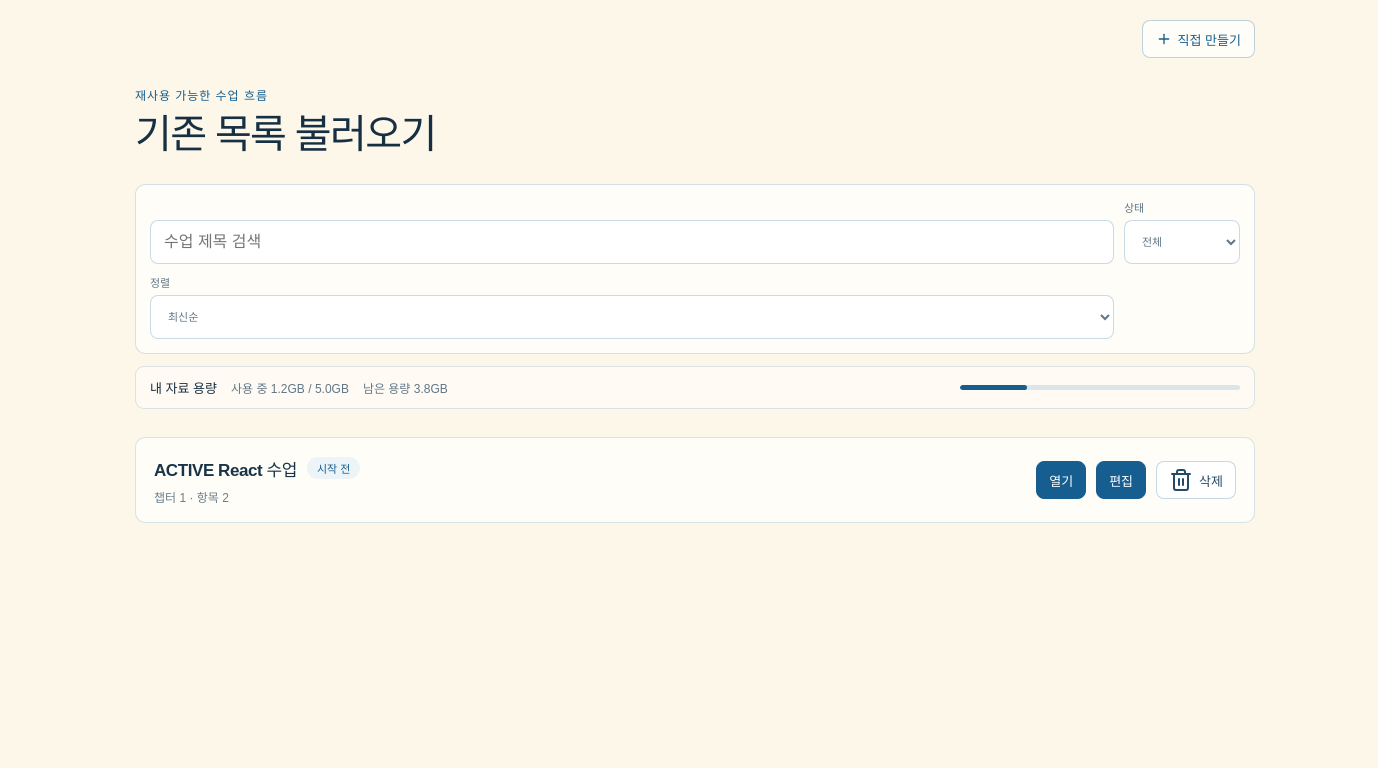
Test: CloudCourseCatalogPage › 접근 가능한 강의방이 없으면 편집은 편집 화면으로 이동한다
This screenshot has width=1378, height=768.
Expected: the heading "ACTIVE React 수업" is shown, x1=154 y1=456 x2=297 y2=480
Click the button "편집". click: (1121, 480)
box: x1=1096 y1=461 x2=1146 y2=499
(page scrolled)
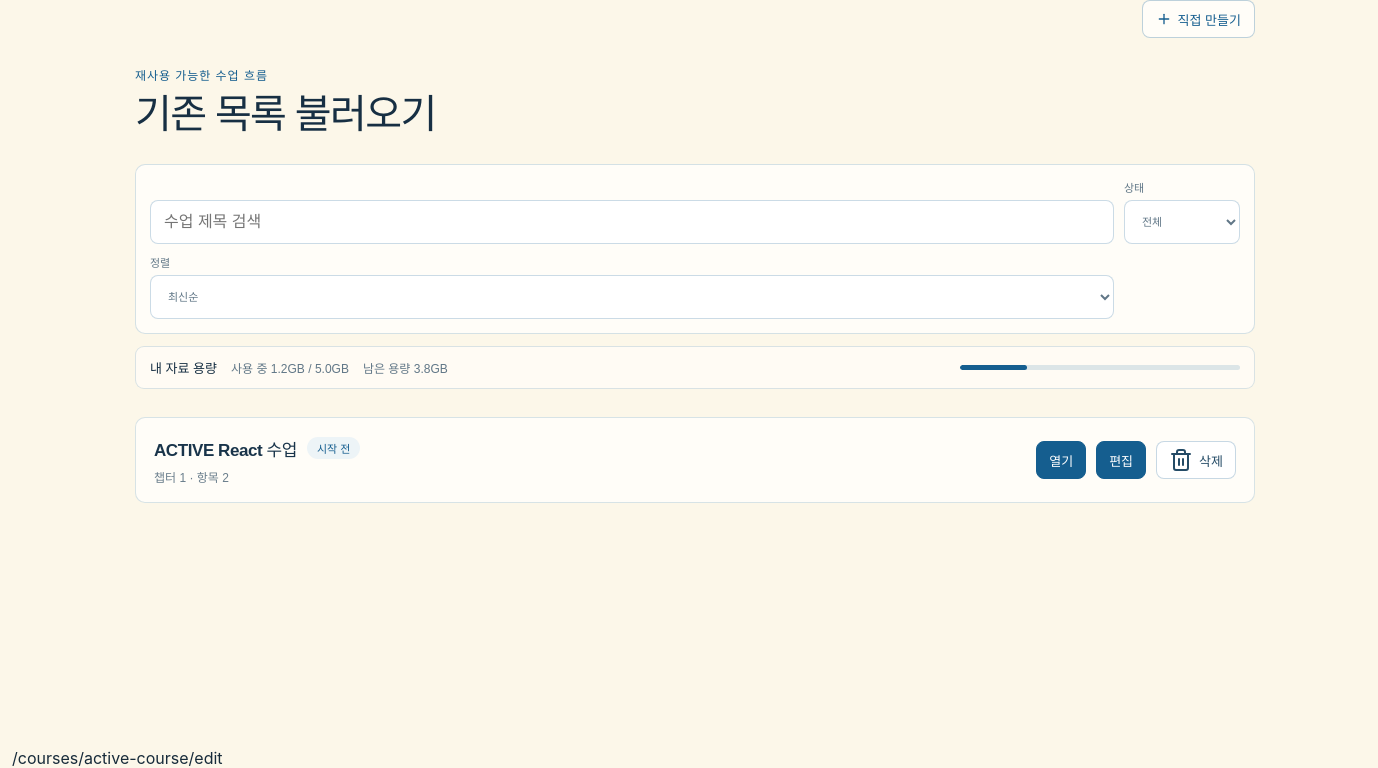
Expected: the text with test id "location" reads "/courses/active-course/edit", x1=12 y1=748 x2=223 y2=767
